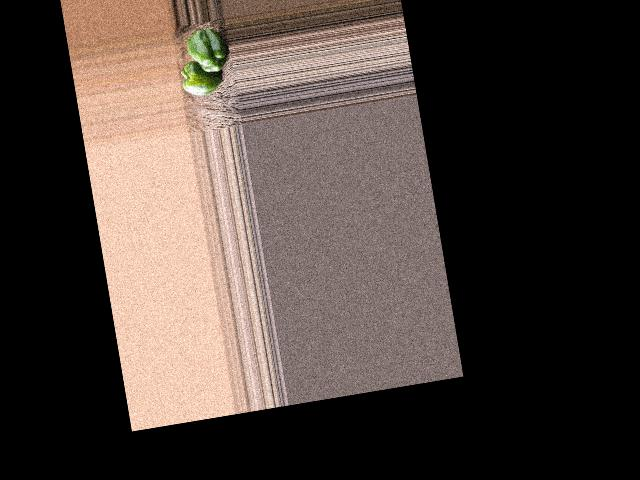bell_pepper: (183, 26, 228, 77)
